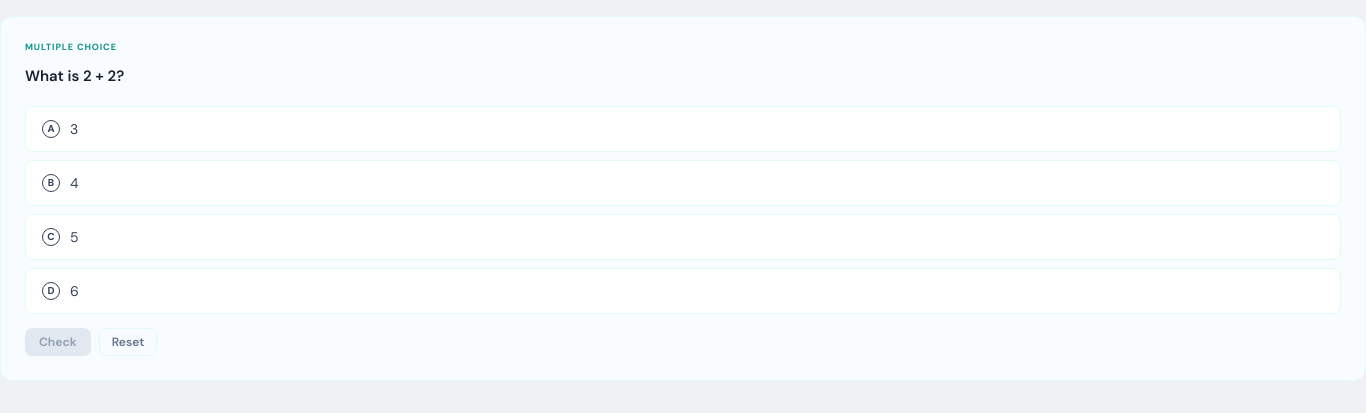
Test case: QuizView › correct answer shows 'Correct!' feedback
Step 1. Click the button "B 4" → (51, 183), box [25, 160, 1341, 206]
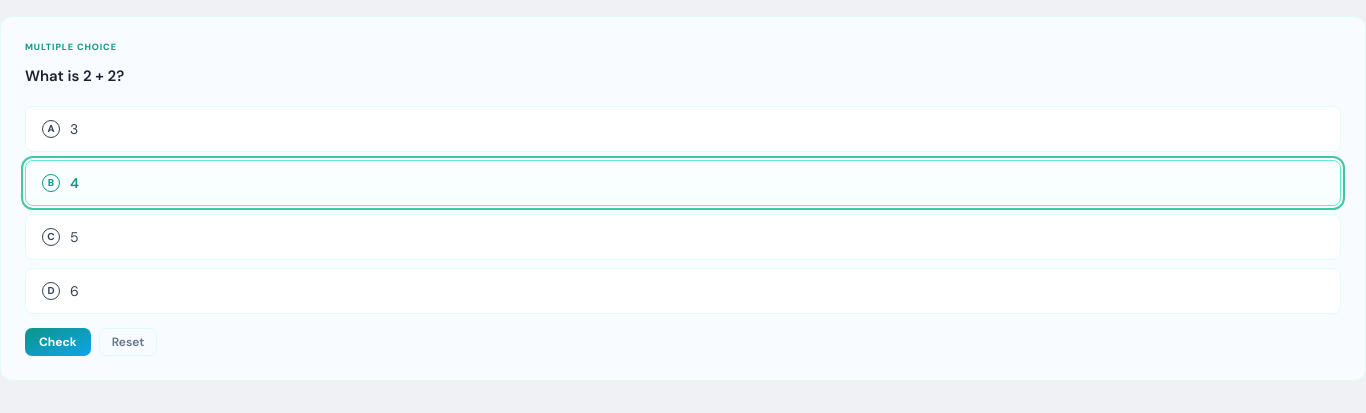
Step 2. Click the button "Check" → (58, 342), box [25, 328, 91, 356]
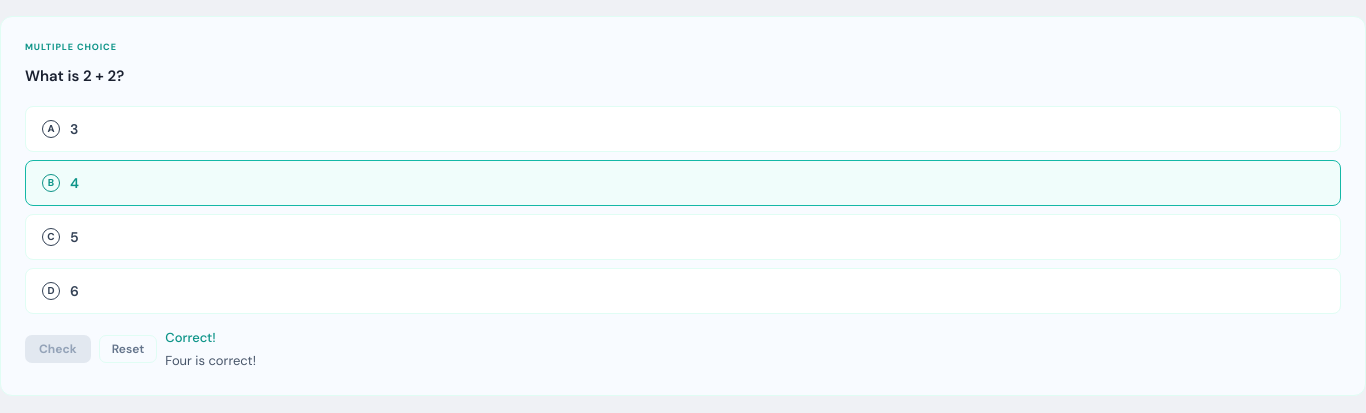
Check: the text "Correct!" is shown, box [165, 329, 216, 346]
